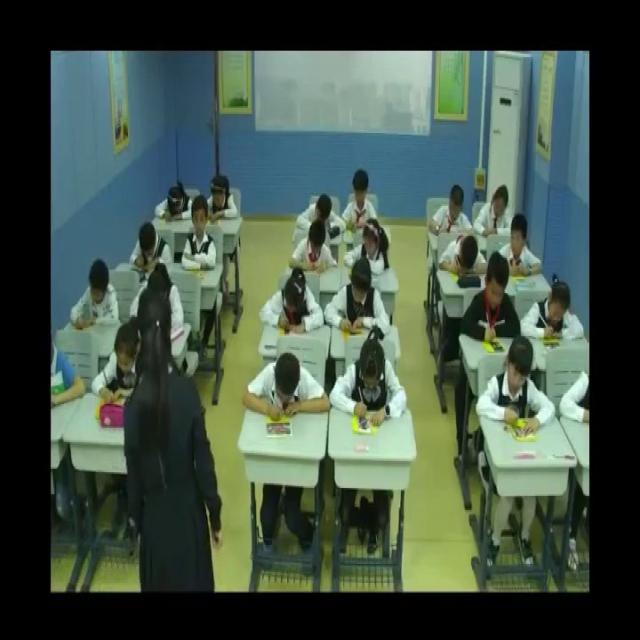focused: (480, 339, 554, 440), (329, 334, 408, 428), (242, 352, 332, 425), (95, 315, 152, 416), (324, 257, 391, 339), (467, 254, 523, 346), (261, 264, 326, 340), (521, 276, 586, 346), (66, 256, 118, 327), (501, 212, 545, 280), (439, 228, 488, 285), (291, 216, 336, 277), (428, 182, 473, 242), (345, 218, 391, 276), (182, 195, 218, 269), (152, 179, 200, 230), (297, 193, 346, 238), (474, 188, 517, 239), (346, 171, 378, 232), (131, 226, 174, 270), (205, 174, 238, 222)
